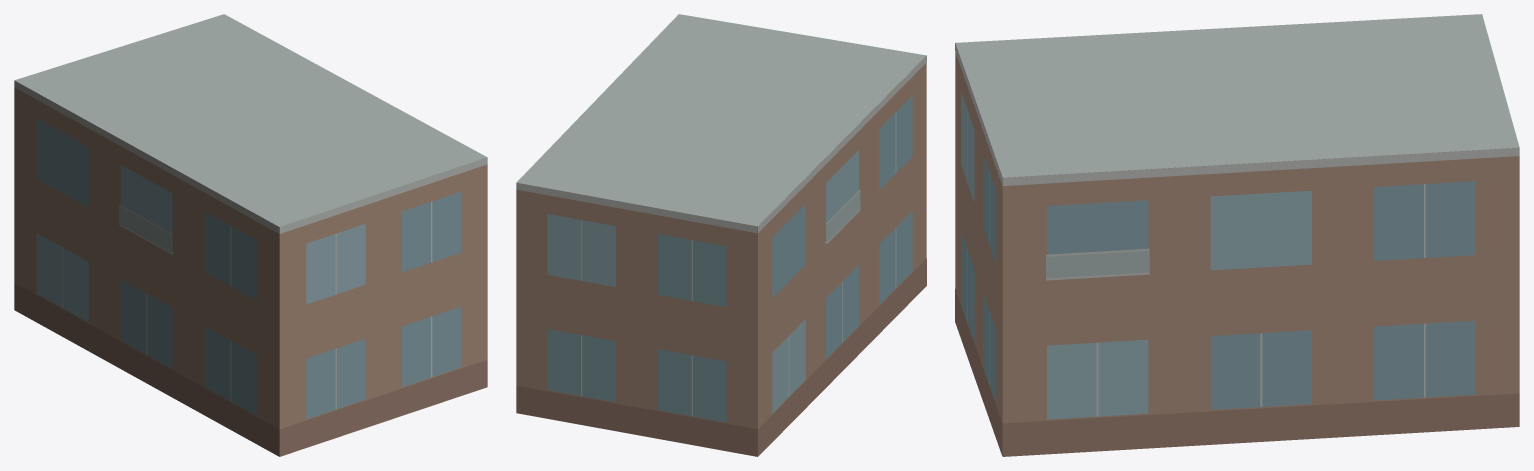
File: survey-upis-32746682.glb
The picture shows the model from 3 angles, left to right: view 1: azimuth 30°, elevation 25°; view 2: azimuth 150°, elevation 25°; view 3: azimuth 270°, elevation 25°; orthographic projection. The views are drawn at different scales.
Visible parts, largest first — view 1: survey-upis-32746682.tmp; view 2: survey-upis-32746682.tmp; view 3: survey-upis-32746682.tmp.
Part boxes in pixels (x1,y1,x2,y2): survey-upis-32746682.tmp: (14,14,487,456); survey-upis-32746682.tmp: (516,14,926,456); survey-upis-32746682.tmp: (955,14,1519,456).
Size of the model in its own units: 10.2 by 8.1 by 14.86.
